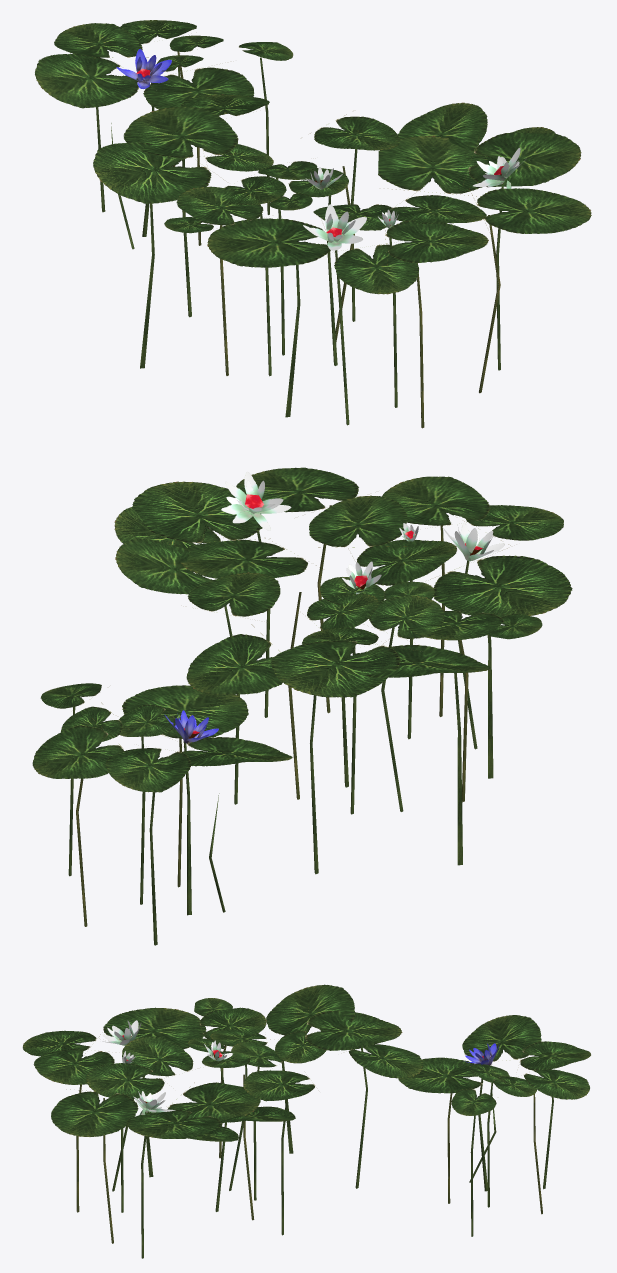
Rendered from DZMG_YHY_LianHua0.FBX.
3 renders of one model, top to bottom at view 1: azimuth 30°, elevation 25°; view 2: azimuth 150°, elevation 25°; view 3: azimuth 270°, elevation 25°, orthographic. The views are drawn at different scales.
Visible parts, largest first — view 1: DZMG_YHY_LianHua01, DZMG_YHY_LianHua02; view 2: DZMG_YHY_LianHua01, DZMG_YHY_LianHua02; view 3: DZMG_YHY_LianHua01, DZMG_YHY_LianHua02.
Boxes of the visible parts, x1=… form: DZMG_YHY_LianHua01: x1=93, y1=94, x2=591, y2=428; DZMG_YHY_LianHua02: x1=35, y1=20, x2=293, y2=249; DZMG_YHY_LianHua01: x1=114, y1=467, x2=572, y2=874; DZMG_YHY_LianHua02: x1=32, y1=683, x2=292, y2=945; DZMG_YHY_LianHua01: x1=22, y1=984, x2=423, y2=1258; DZMG_YHY_LianHua02: x1=398, y1=1015, x2=590, y2=1236.
Bounding box in the file's own units: 424 × 210 × 644.
